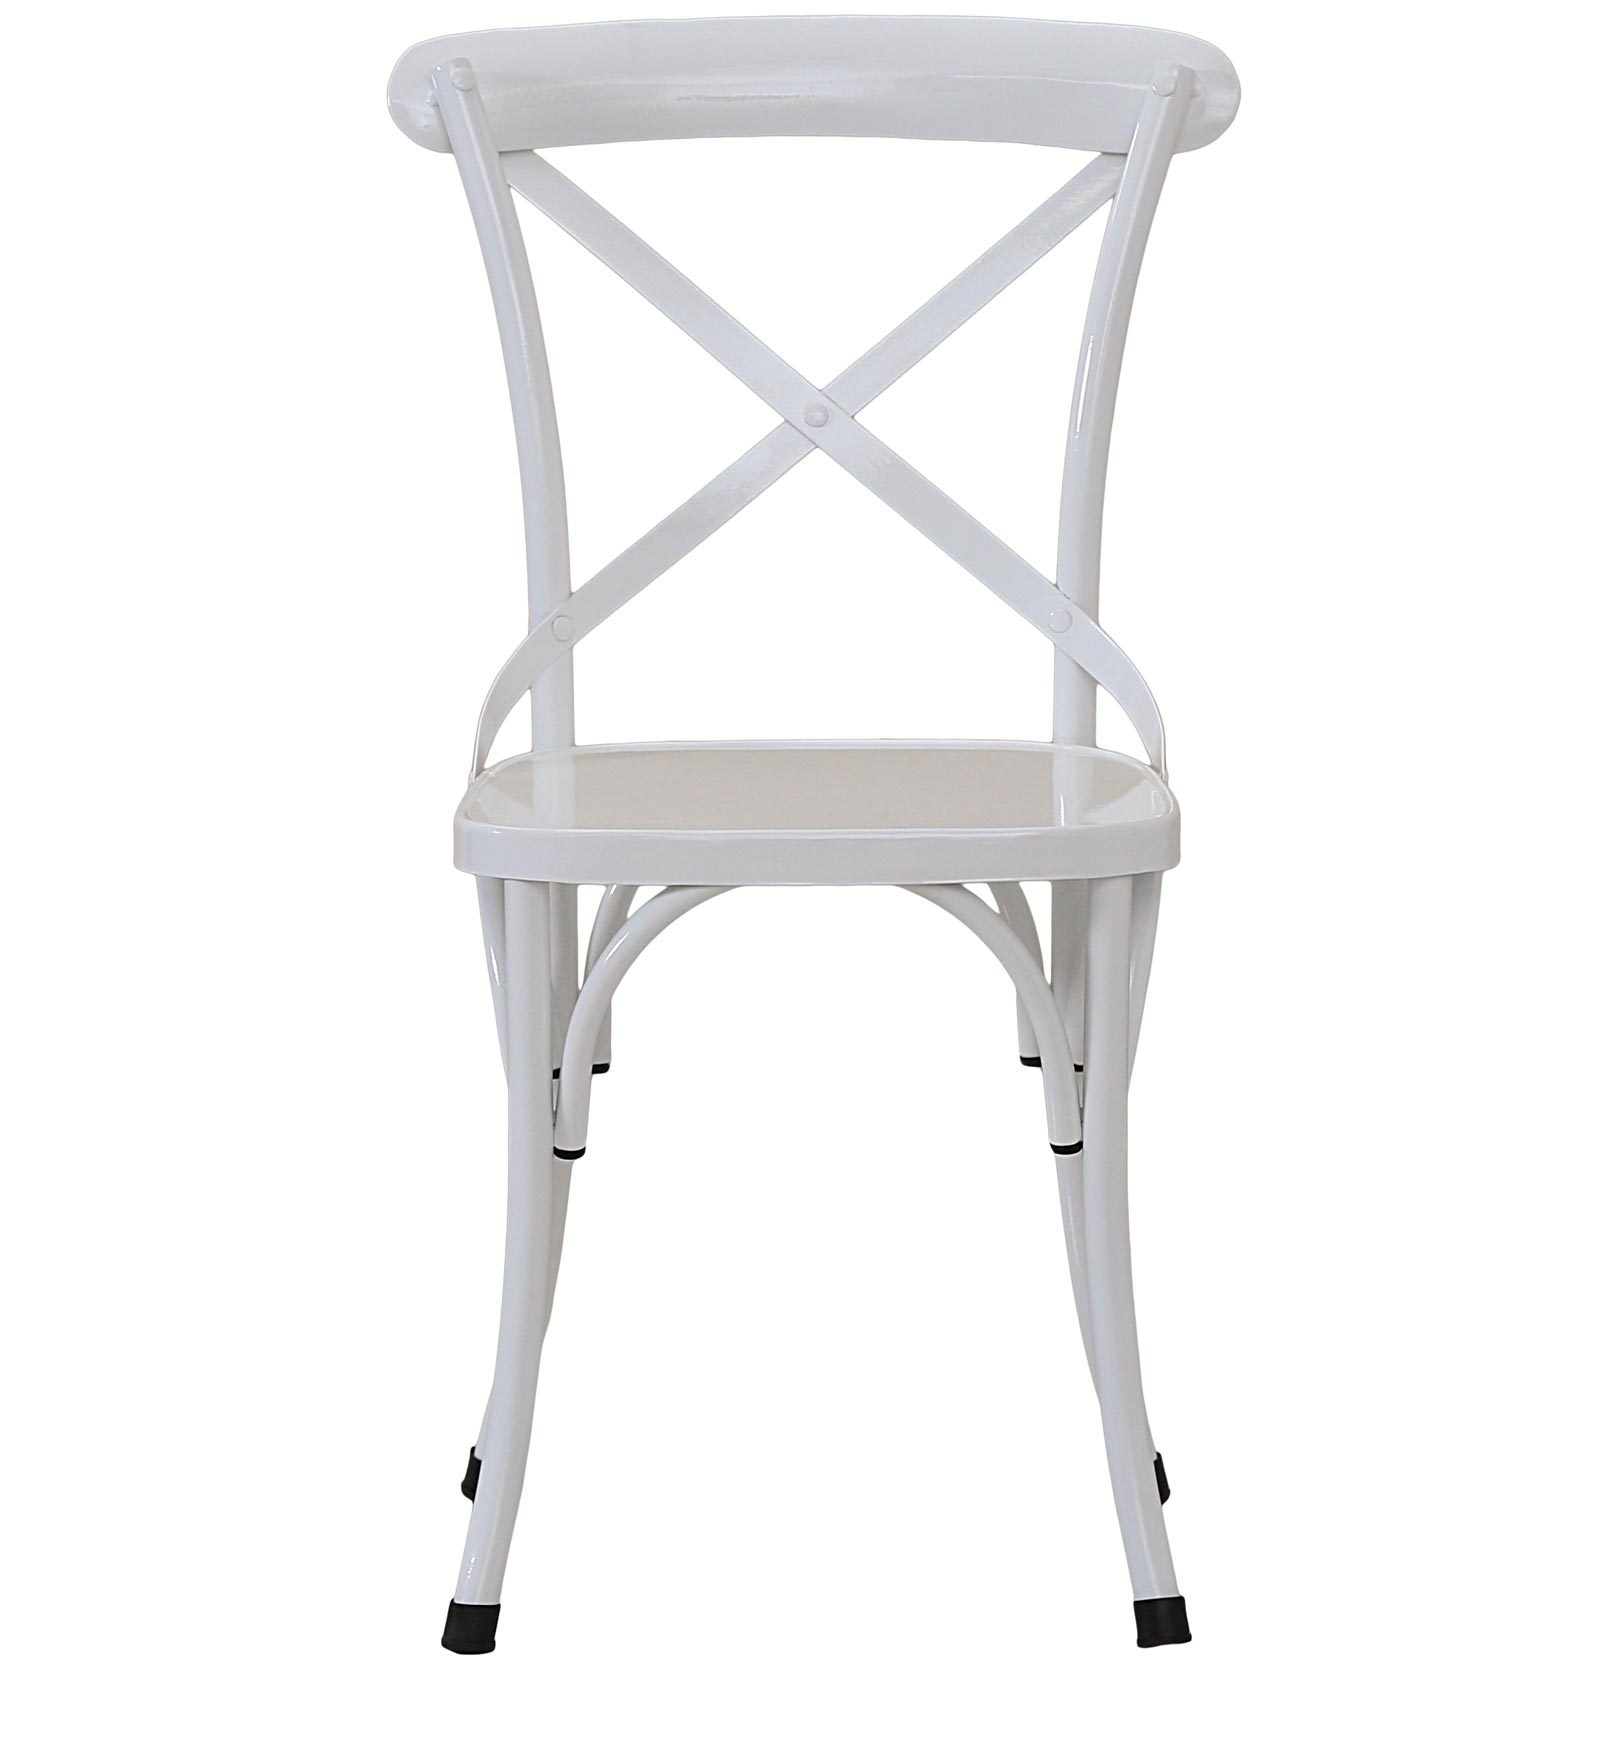Fabian Metal Chair in White Color by Bohemiana: (349, 9, 1244, 1703)
